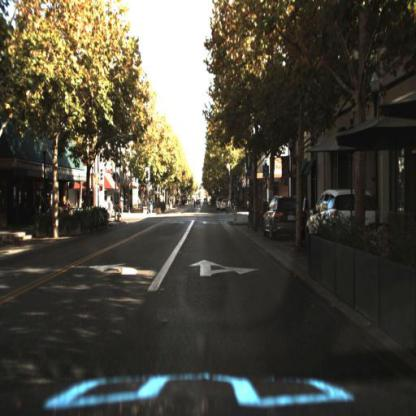car: (304, 182, 379, 239), (263, 194, 303, 241)
pedestrian: (120, 192, 128, 221), (117, 196, 125, 220), (227, 197, 235, 216)
trafficLight-Red: (227, 159, 235, 180), (144, 167, 152, 183)
